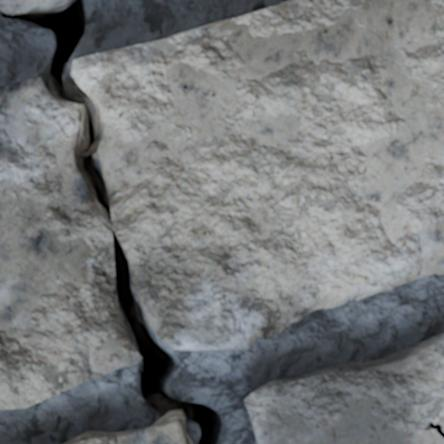brick: (245, 333, 443, 443), (65, 410, 192, 443), (0, 0, 65, 12)
broken_brick: (70, 0, 443, 351), (0, 77, 139, 410)
crack: (1, 0, 226, 443), (423, 420, 443, 438)
